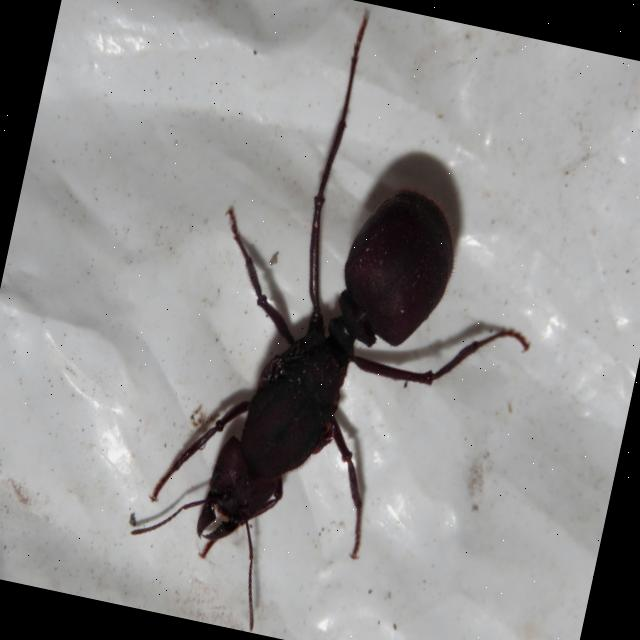Alive-Female-Dealate: (115, 0, 589, 640)
